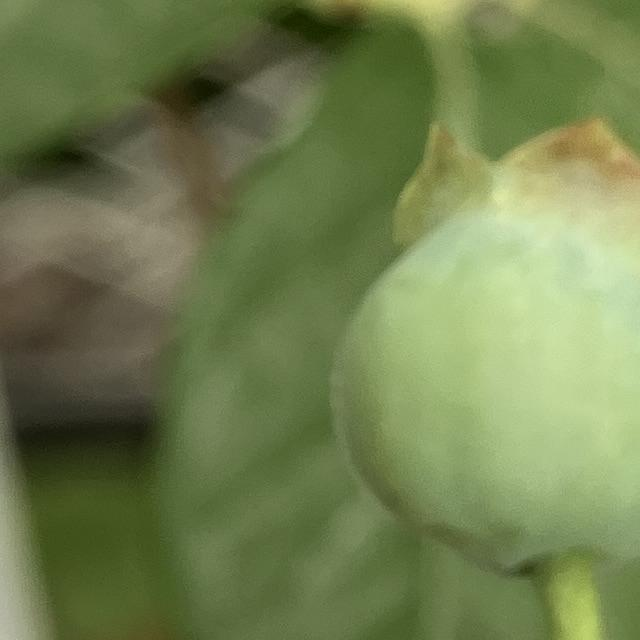Blueberries: (324, 111, 640, 579)
